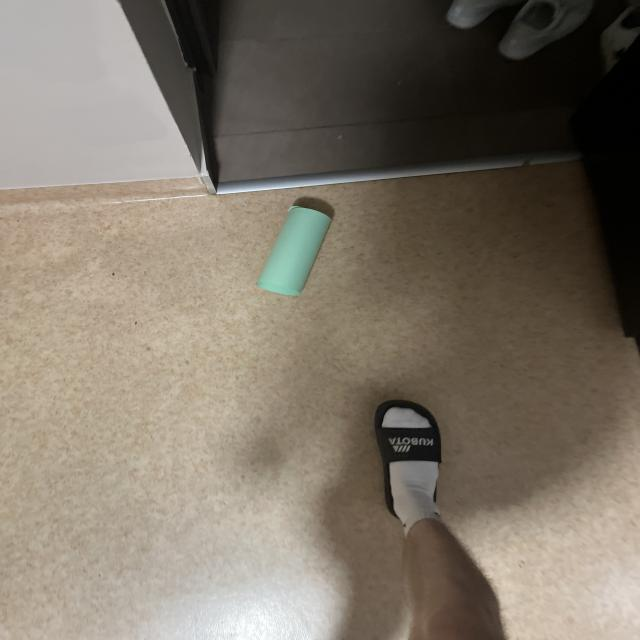meta: (256, 206, 331, 296)
